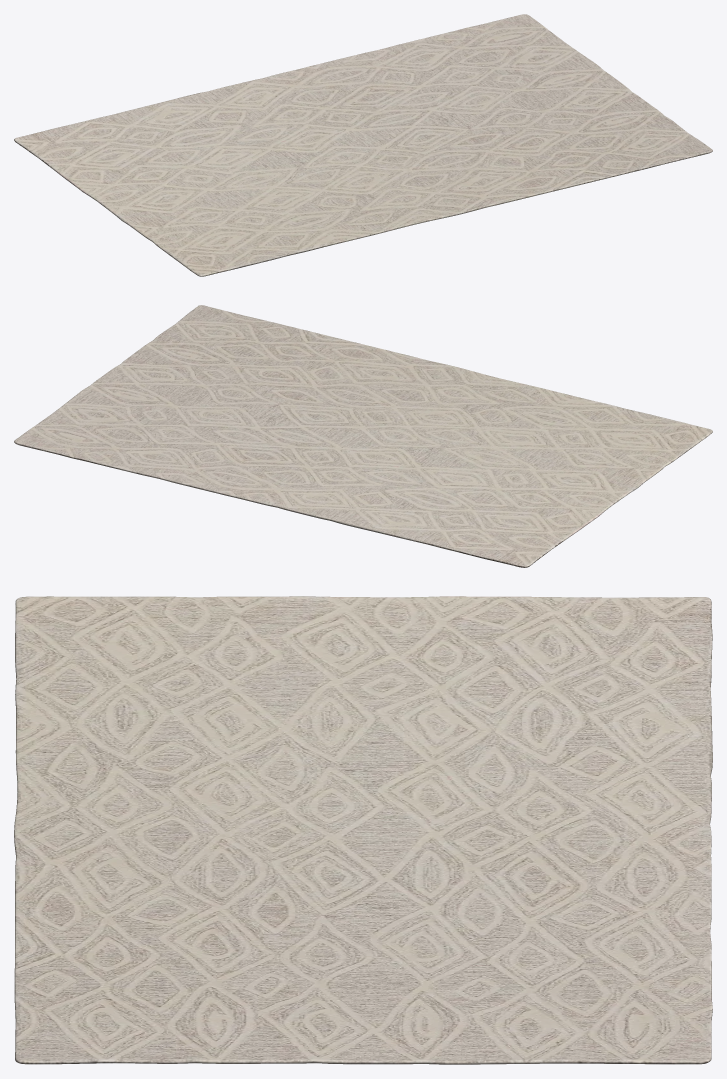
Rendered from B07HSHPHW2.glb.
3 renders of one model, top to bottom at view 1: azimuth 30°, elevation 25°; view 2: azimuth 150°, elevation 25°; view 3: azimuth 270°, elevation 25°, orthographic. The views are drawn at different scales.
Visible parts, largest first — view 1: RootNode; view 2: RootNode; view 3: RootNode.
Part boxes in pixels (<box>): RootNode: <box>14,14,712,276</box>; RootNode: <box>14,305,712,567</box>; RootNode: <box>14,596,712,1064</box>.
Bounding box in the file's own units: 2.44 × 0.00984 × 1.55.
Materials: 1 (1 with a texture image).
